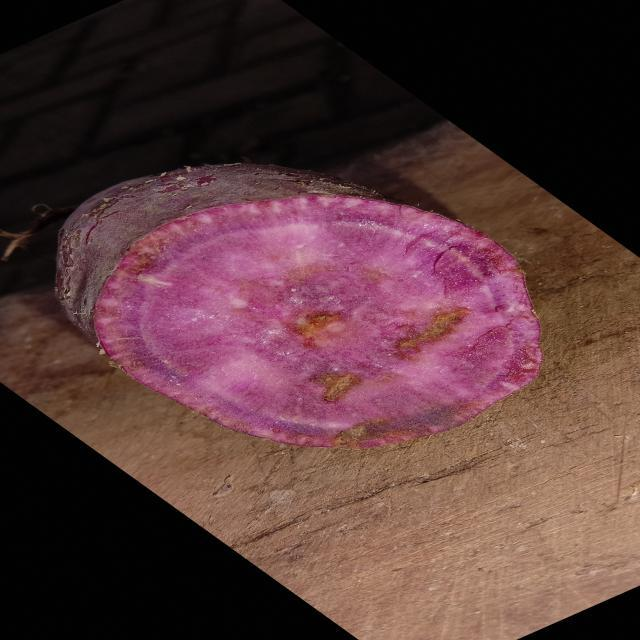Sick Sweet Potato_Tuber Rot: (96, 196, 542, 449)
